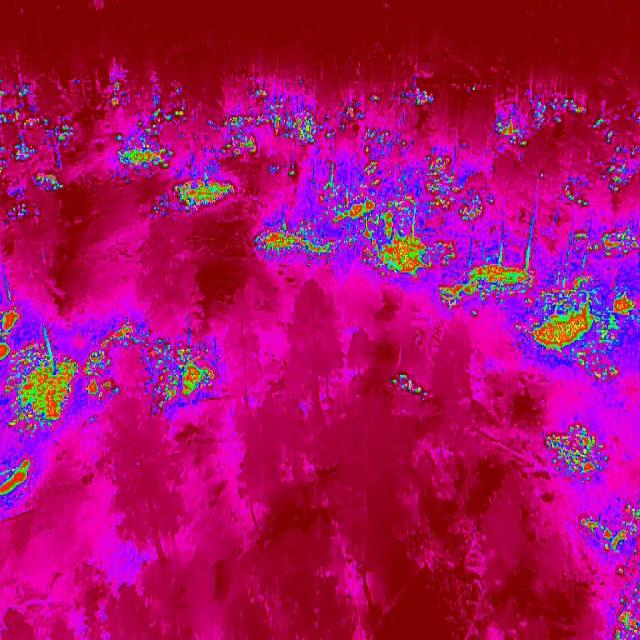fire: (309, 150, 537, 322), (0, 302, 136, 439), (529, 274, 638, 384), (0, 79, 75, 226), (215, 82, 332, 170), (106, 72, 196, 182), (138, 335, 219, 420), (253, 224, 348, 274), (564, 212, 640, 268), (542, 422, 606, 483), (581, 498, 640, 556), (168, 171, 234, 213), (598, 144, 640, 208), (530, 88, 591, 132), (0, 452, 36, 510), (390, 365, 438, 406), (491, 98, 528, 143), (606, 591, 639, 640), (392, 81, 440, 113), (559, 174, 599, 208), (336, 94, 374, 128), (590, 102, 622, 142)
